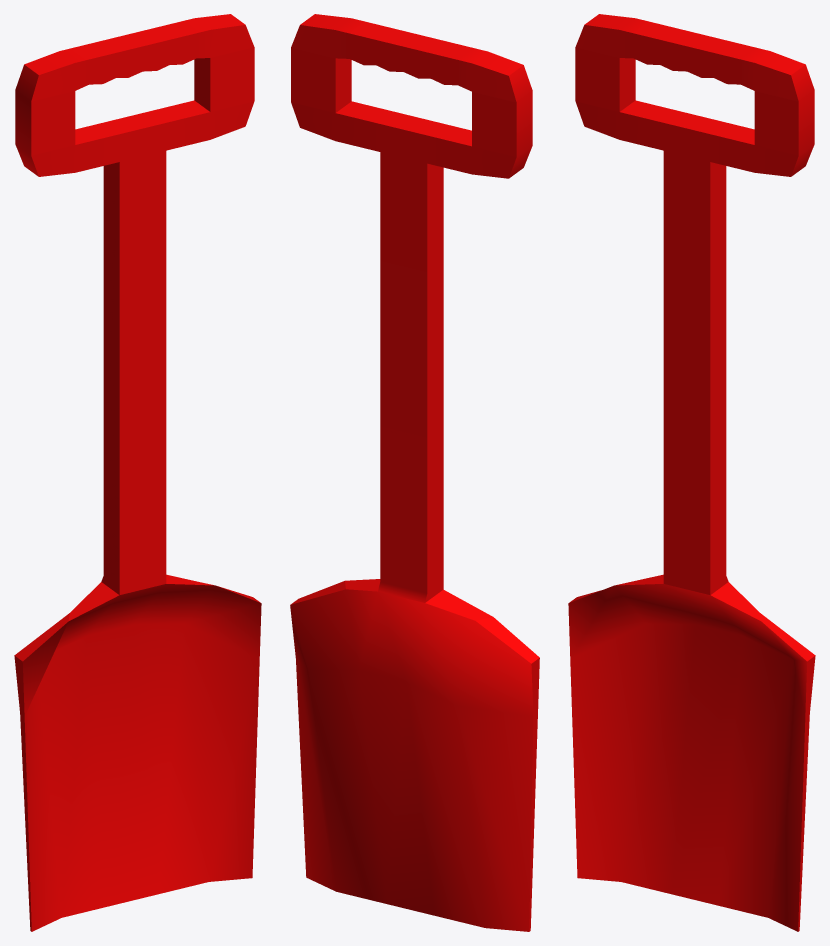
File: Spade.fbx
3 views of the same model, side by side, from view 1: azimuth 30°, elevation 25°; view 2: azimuth 150°, elevation 25°; view 3: azimuth 330°, elevation 25° (orthographic).
Visible parts, largest first — view 1: pCube1; view 2: pCube1; view 3: pCube1.
Boxes of the visible parts, x1,y1,x2,y2 form: pCube1: (14, 14, 261, 931); pCube1: (290, 14, 539, 931); pCube1: (568, 14, 815, 931).
Bounding box in the file's own units: 1.08 × 3.72 × 0.2889.
1 material, 1 textured.
